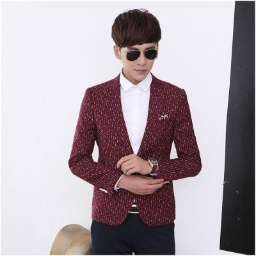face: (111, 8, 162, 82)
